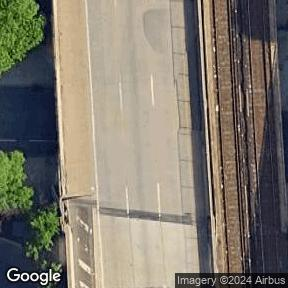vegetation: (17, 204, 65, 263), (0, 149, 34, 220)
